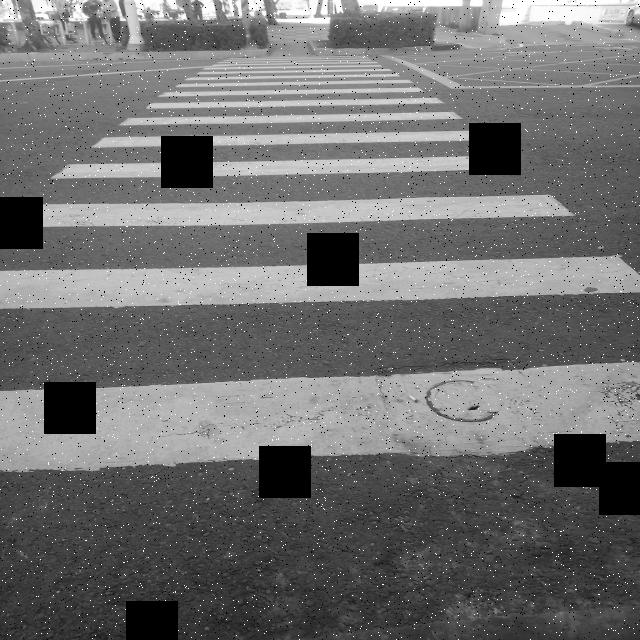zebra crossing: (0, 61, 640, 464)
